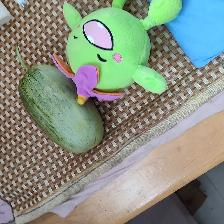gua: (26, 79, 94, 144)
